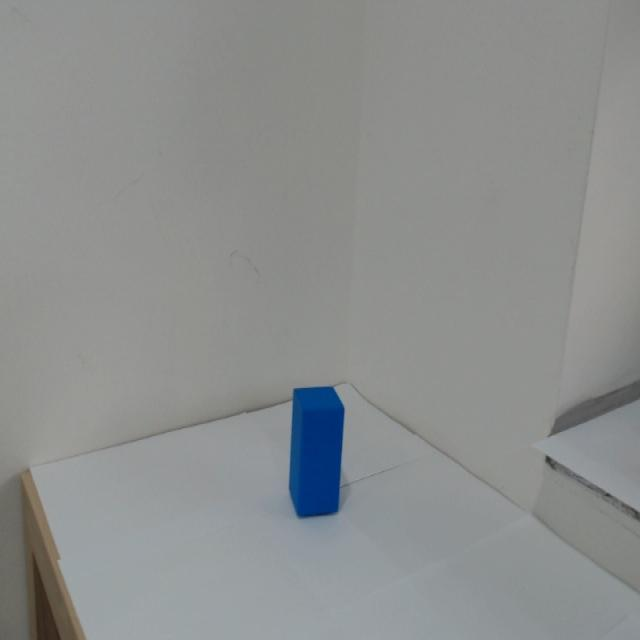cube: (276, 355, 369, 566)
